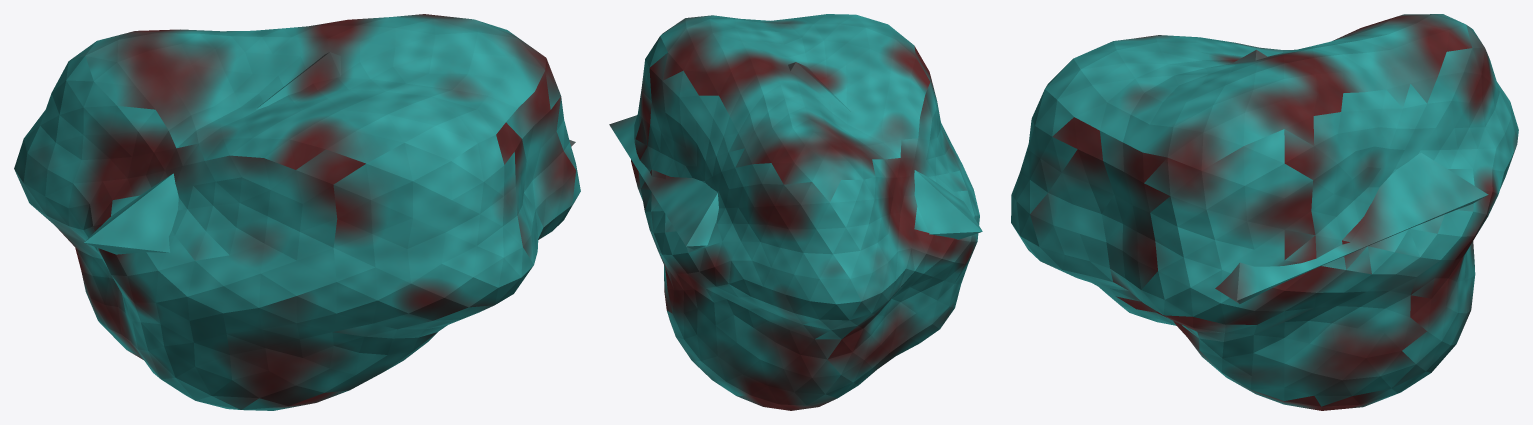
3 renders of one model, left to right at view 1: azimuth 30°, elevation 25°; view 2: azimuth 150°, elevation 25°; view 3: azimuth 270°, elevation 25°, orthographic. The views are drawn at different scales.
Parts seen in each view (by area): view 1: geometry_0; view 2: geometry_0; view 3: geometry_0.
Part boxes in pixels (x1,y1,x2,y2): geometry_0: (14, 14, 580, 410); geometry_0: (609, 14, 982, 410); geometry_0: (1011, 14, 1518, 410).
Bounding box in the file's own units: 1.9 × 1.42 × 1.8.
1 material, 1 textured.
